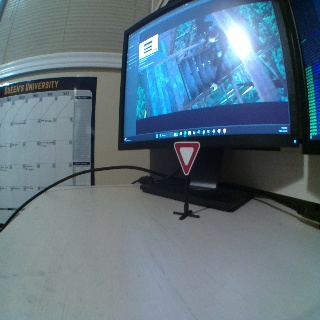sign_yield: (172, 141, 200, 174)
